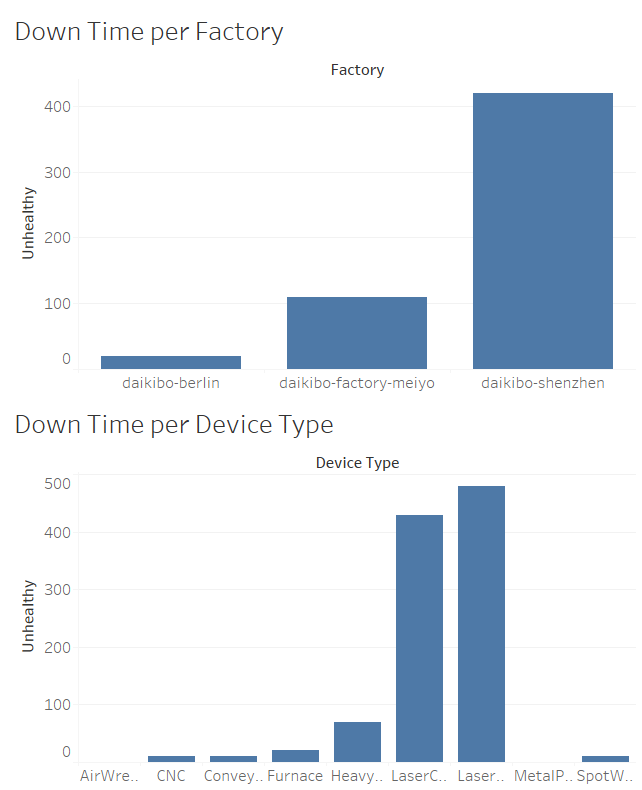

This screenshot's page, from the dashboard's own definition file:
{"tool":"tableau","page":{"name":"Dashboard 1","canvas":[650,860],"ordinal":0},"visuals":[{"type":"worksheet","title":"Down Time per Factory","mark":"Automatic","rows":["Calculation_1184165247019823104"],"cols":["factory"],"box":[8,8.3,634,421.7]},{"type":"worksheet","title":"Down Time per Device Type","mark":"Automatic","rows":["Calculation_1184165247019823104"],"cols":["deviceType"],"box":[8,430,634,421.7]}]}

Visuals, with their boxes on the page's 650x860 design canvas (x1, y1, x2, y2). These are canvas units, not pixel positions in the 642x790 screenshot, which may show the page scaled, cropped or inside an application window:
"Down Time per Factory" worksheet: bbox(8, 8, 642, 430)
"Down Time per Device Type" worksheet: bbox(8, 430, 642, 852)
